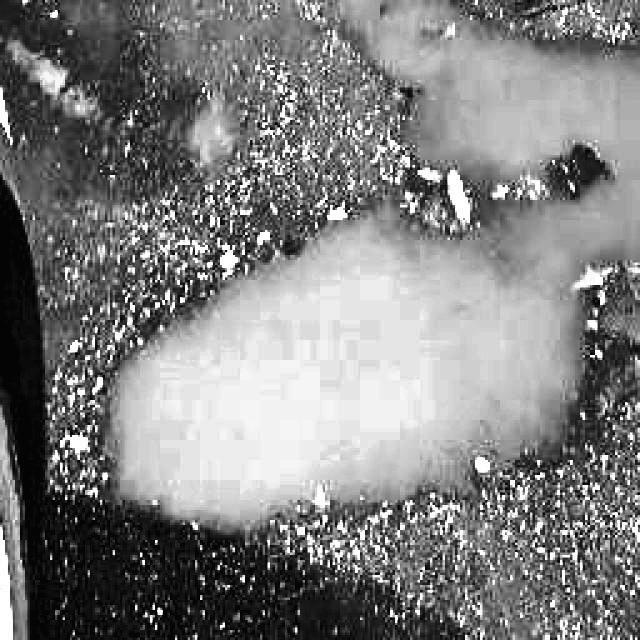Pothole: (77, 0, 640, 555)
